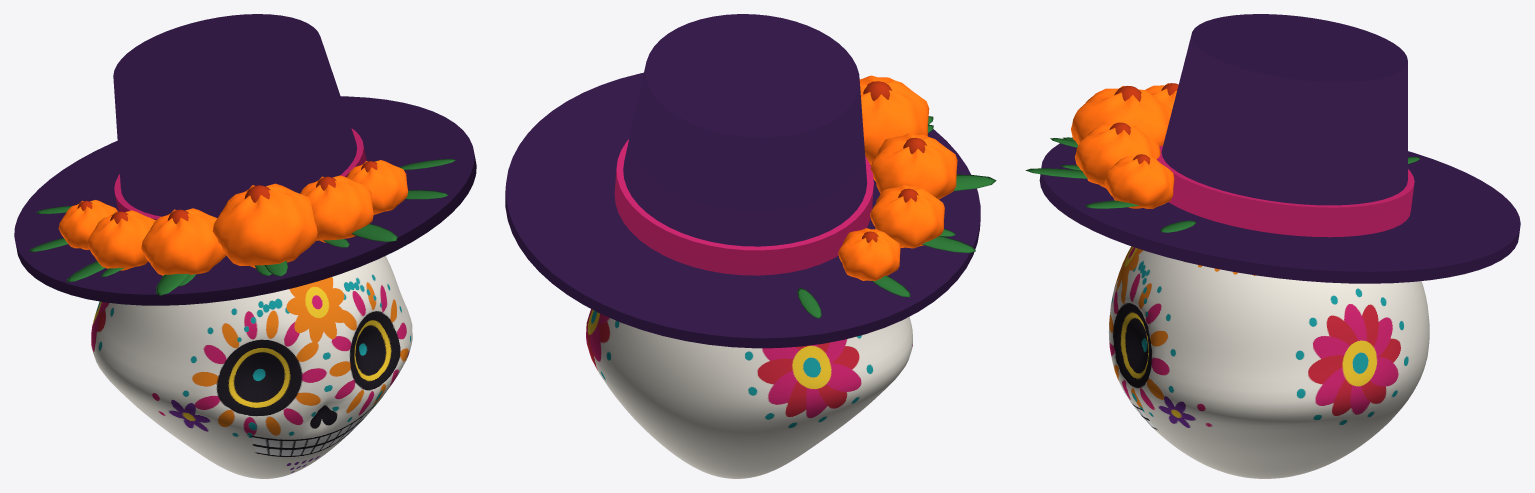
File: calavera.glb
The picture shows the model from 3 angles, left to right: view 1: azimuth 30°, elevation 25°; view 2: azimuth 150°, elevation 25°; view 3: azimuth 270°, elevation 25°; orthographic projection. The views are drawn at different scales.
Parts seen in each view (by area): view 1: Hat, Skull, Flowers; view 2: Hat, Skull, Flowers; view 3: Hat, Skull, Flowers.
Boxes of the visible parts, box(x1,y1,x2,y2) form: Hat: box(14, 14, 476, 305); Skull: box(91, 256, 412, 478); Flowers: box(29, 159, 455, 295); Hat: box(505, 14, 980, 348); Skull: box(586, 309, 912, 478); Flowers: box(797, 75, 996, 318); Hat: box(1039, 14, 1520, 283); Skull: box(1109, 246, 1429, 478); Flowers: box(1025, 83, 1419, 232).
Size of the model in its own units: 3.1 by 3.07 by 3.18.
6 materials, 1 textured.
